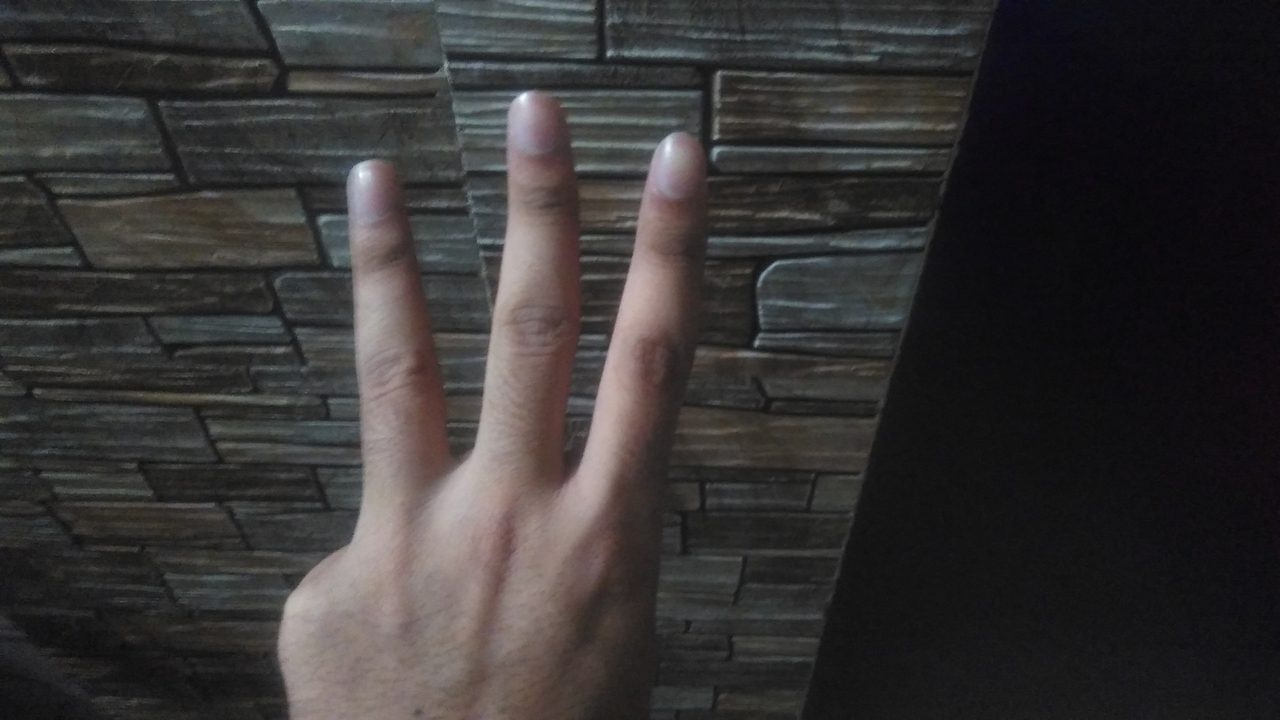fingertip: (500, 82, 570, 150), (644, 126, 708, 192), (338, 150, 400, 214)
